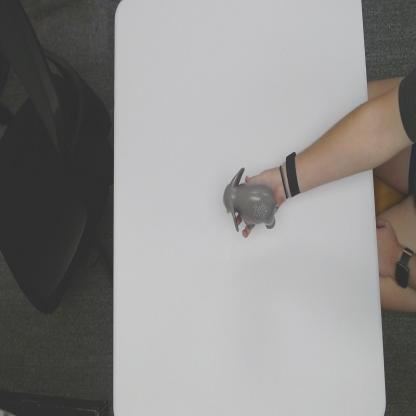Arm: (299, 101, 372, 192)
Elephant: (222, 165, 278, 230)
Hand: (234, 164, 286, 238)
